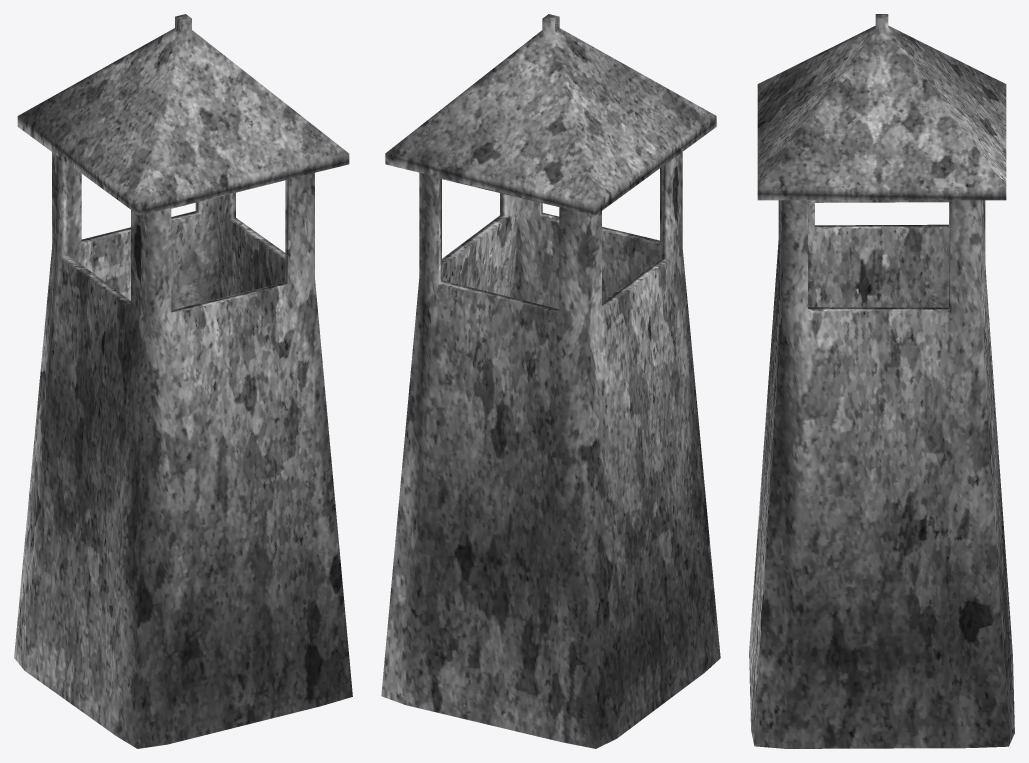
The picture shows the model from 3 angles, left to right: view 1: azimuth 30°, elevation 25°; view 2: azimuth 150°, elevation 25°; view 3: azimuth 270°, elevation 25°; orthographic projection. The views are drawn at different scales.
Visible parts, largest first — view 1: 立方体.003; view 2: 立方体.003; view 3: 立方体.003.
Boxes of the visible parts, x1,y1,x2,y2 form: 立方体.003: [14, 14, 352, 748]; 立方体.003: [381, 14, 720, 748]; 立方体.003: [749, 14, 1014, 748].
Size of the model in its own units: 14.05 by 39.39 by 14.05.
Materials: 1 (1 with a texture image).
